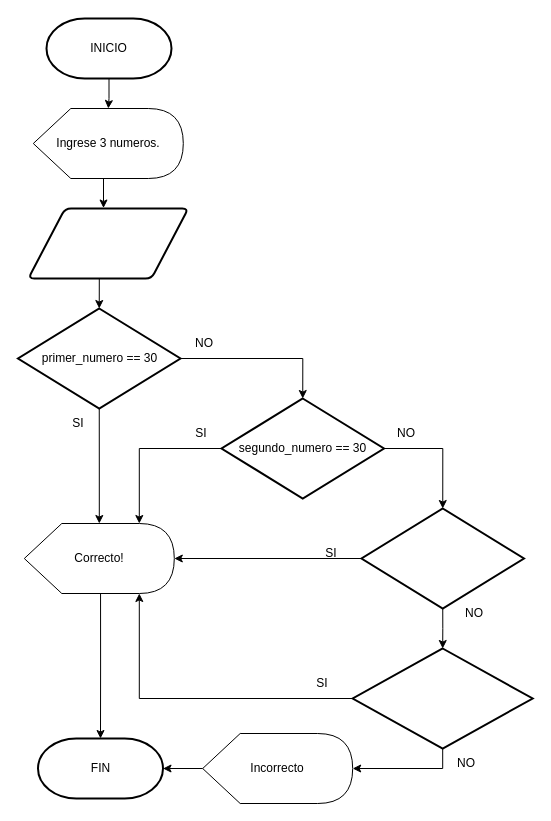
The diagram is 551 pixels wide and 821 high, and some of its shapes have lost their labels. Each missing label, with the centre of its shape:
primer_numero + segundo_numero + tercer_numero == 30: [442,698]
primer_numero segundo_numero tercer_numero: [108,243]
tercer_numero == 30: [442,558]
